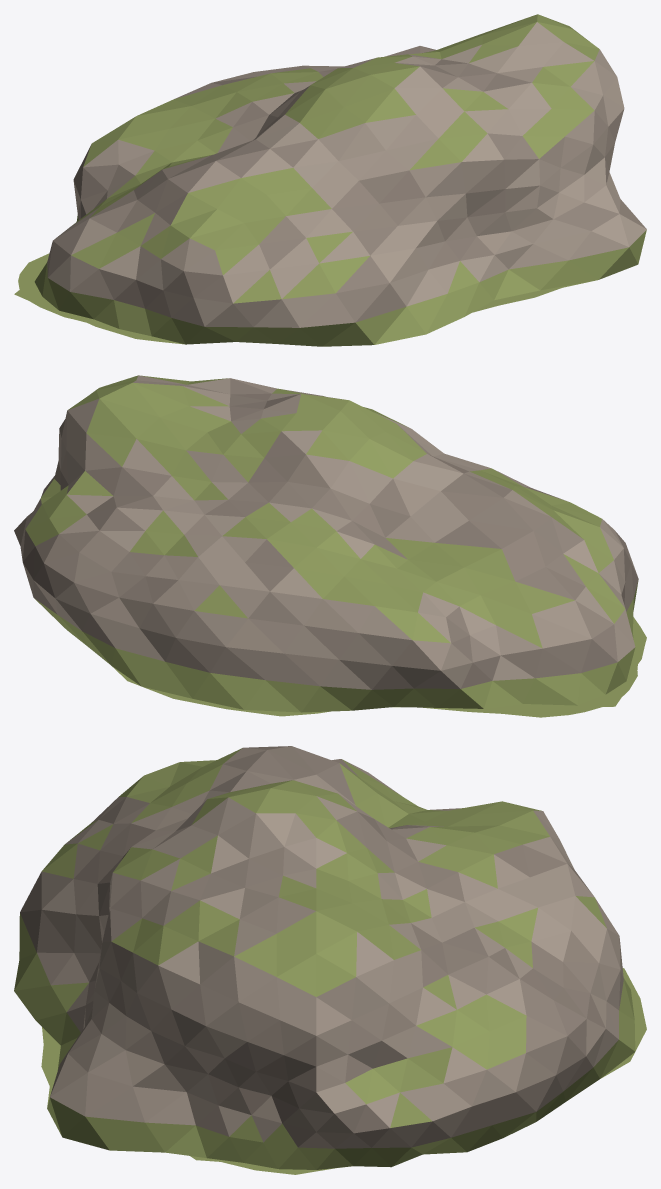
File: aso-rock.glb
3 views of the same model, one above another, from view 1: azimuth 30°, elevation 25°; view 2: azimuth 150°, elevation 25°; view 3: azimuth 270°, elevation 25° (orthographic). The views are drawn at different scales.
Visible parts, largest first — view 1: aso-rock_Rock; view 2: aso-rock_Rock; view 3: aso-rock_Rock.
Boxes of the visible parts, x1,y1,x2,y2 form: aso-rock_Rock: (14,14,646,346); aso-rock_Rock: (14,375,646,717); aso-rock_Rock: (14,746,646,1174).
Bounding box in the file's own units: 123 × 36.68 × 90.43.
